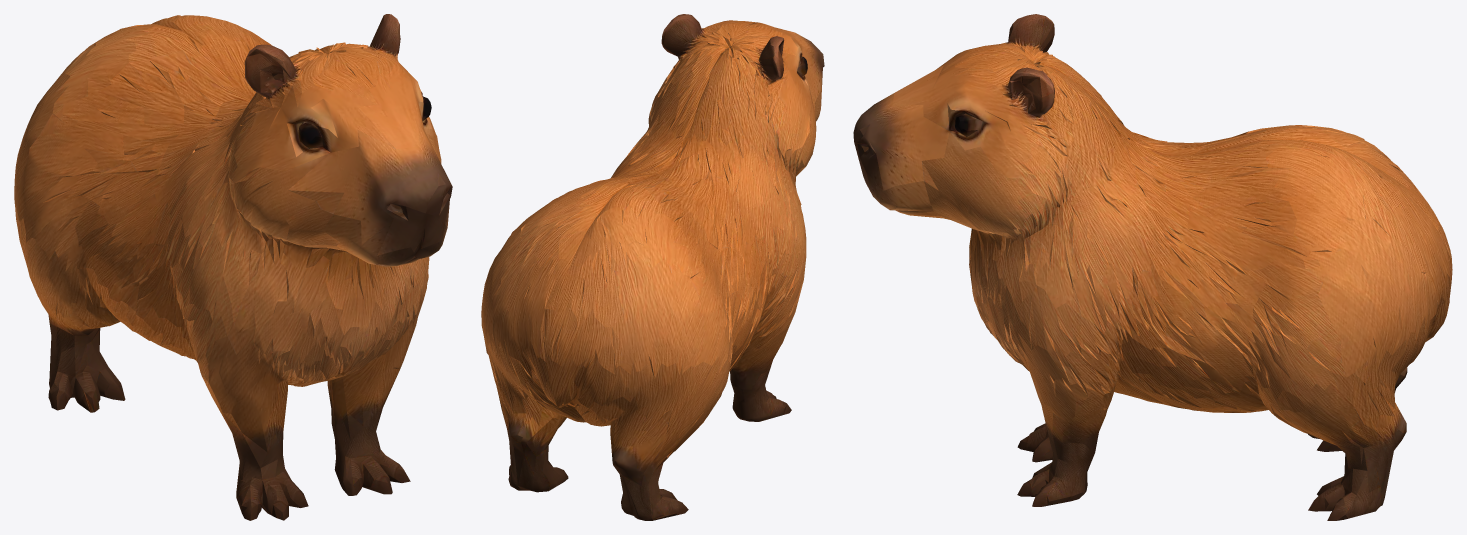
File: capivara.glb
3 renders of one model, left to right at view 1: azimuth 30°, elevation 25°; view 2: azimuth 150°, elevation 25°; view 3: azimuth 270°, elevation 25°, orthographic. The views are drawn at different scales.
Visible parts, largest first — view 1: output_unwrapped; view 2: output_unwrapped; view 3: output_unwrapped.
Boxes of the visible parts, x1,y1,x2,y2 form: output_unwrapped: [14, 14, 452, 520]; output_unwrapped: [481, 14, 824, 520]; output_unwrapped: [853, 14, 1452, 520].
Bounding box in the file's own units: 0.9823 × 1.51 × 1.9.
Materials: 1 (1 with a texture image).
